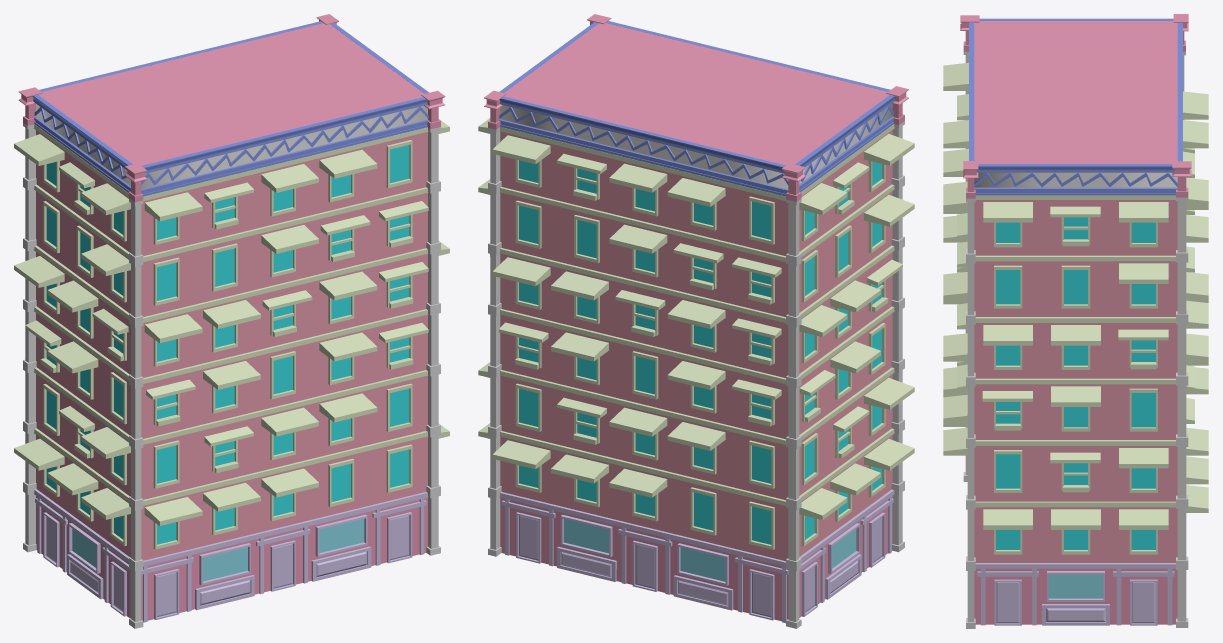
Rendered from PRP_New_Building_03.fbx.
3 views of the same model, side by side, from view 1: azimuth 30°, elevation 25°; view 2: azimuth 150°, elevation 25°; view 3: azimuth 270°, elevation 25° (orthographic).
Parts seen in each view (by area): view 1: Cube.002; view 2: Cube.002; view 3: Cube.002.
Part boxes in pixels (x1=…): Cube.002: x1=14, y1=14, x2=449, y2=628; Cube.002: x1=478, y1=14, x2=914, y2=628; Cube.002: x1=943, y1=14, x2=1208, y2=628.
Bounding box in the file's own units: 591 × 751 × 391.
